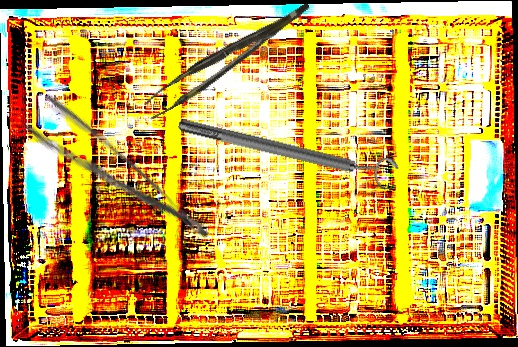Dressing Forceps: (19, 90, 215, 269)
Fixation Ring: (174, 105, 402, 195)
Tissue Forceps: (136, 2, 322, 121)
